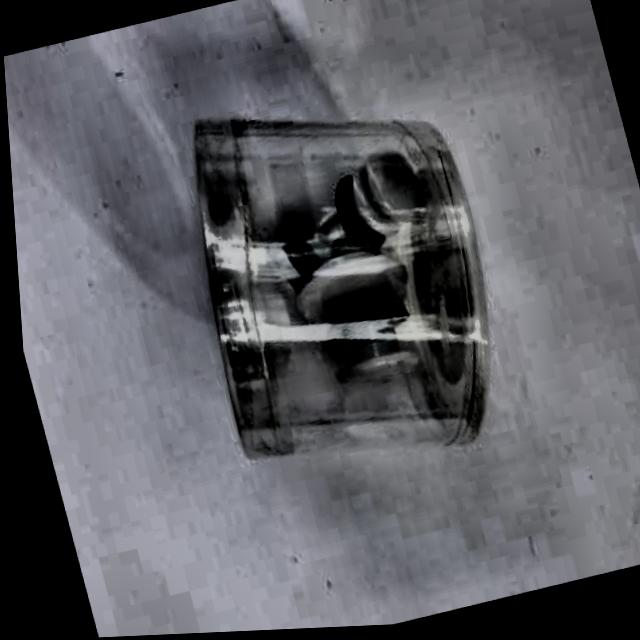Plastic: (135, 40, 534, 507)
